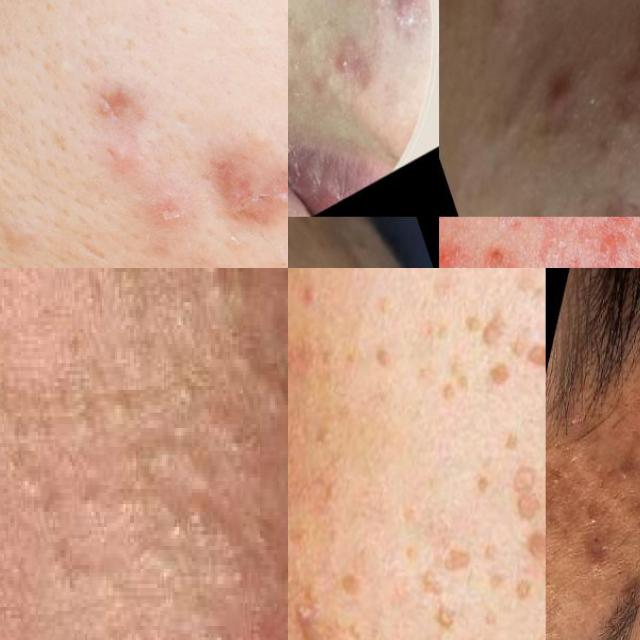acne_scars: (215, 146, 288, 252), (538, 217, 640, 268)
comedone: (44, 516, 245, 607), (53, 363, 155, 462), (48, 614, 245, 640), (217, 287, 256, 394), (84, 142, 146, 200), (0, 500, 19, 591), (545, 609, 573, 640), (611, 454, 638, 486)
cystic: (470, 0, 553, 36), (626, 2, 640, 79)
flat_wart: (407, 530, 480, 640), (288, 504, 335, 634), (447, 282, 521, 358), (470, 538, 540, 614), (490, 446, 546, 534), (425, 352, 483, 420), (478, 350, 534, 406), (458, 588, 510, 640), (328, 559, 378, 613), (512, 522, 546, 598), (288, 507, 318, 584), (518, 596, 545, 640)
papule: (525, 55, 598, 141), (346, 47, 386, 102), (332, 44, 358, 82), (393, 0, 424, 26), (288, 11, 302, 54), (629, 426, 640, 465)
sebo-crystan-conglo: (574, 535, 617, 594)
